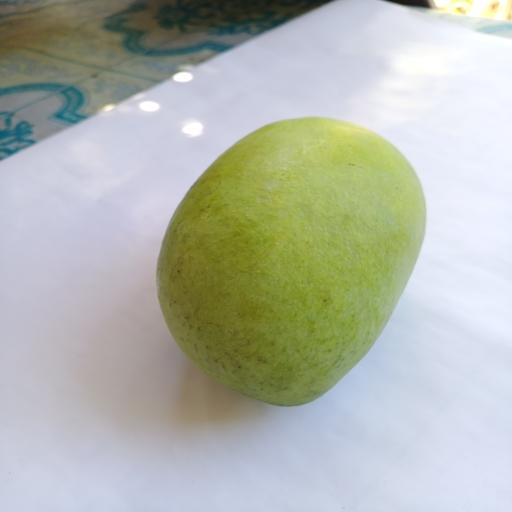mango-unripe: (157, 104, 426, 416)
